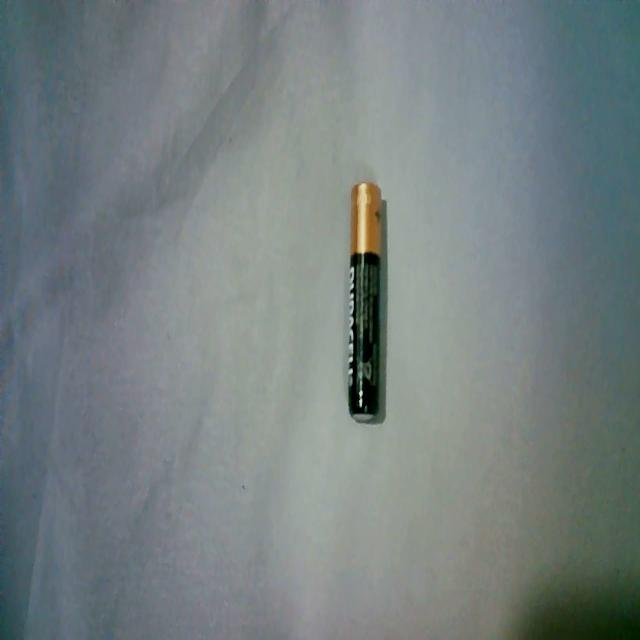AAA: (342, 176, 387, 432)
